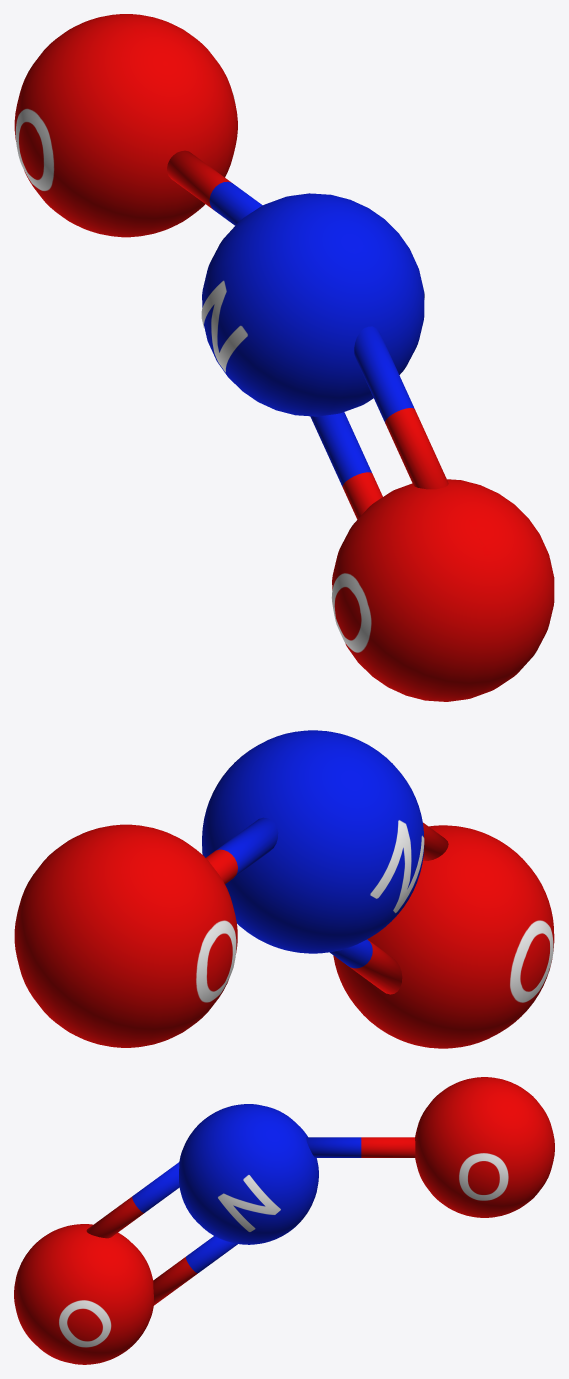
Rendered from dioxido_nitrogenio.glb.
The picture shows the model from 3 angles, top to bottom: view 1: azimuth 30°, elevation 25°; view 2: azimuth 150°, elevation 25°; view 3: azimuth 270°, elevation 25°; orthographic projection. The views are drawn at different scales.
Visible parts, largest first — view 1: Mol molde 27; view 2: Mol molde 27; view 3: Mol molde 27.
Boxes of the visible parts, x1,y1,x2,y2 form: Mol molde 27: (14, 14, 554, 701); Mol molde 27: (14, 730, 554, 1048); Mol molde 27: (14, 1077, 554, 1364).
Bounding box in the file's own units: 0.3054 × 0.6565 × 1.17.
2 materials, 2 textured.
